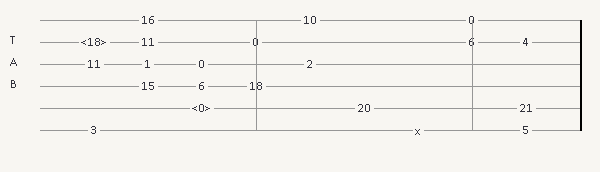0: (198, 58, 209, 70), (252, 36, 263, 48), (468, 14, 479, 26)
1: (144, 58, 155, 70)
10: (303, 14, 321, 26)
11: (87, 58, 105, 70), (141, 36, 159, 48)
15: (141, 80, 159, 92)
16: (141, 14, 159, 26)
18: (249, 80, 267, 92)
2: (306, 58, 317, 70)
20: (357, 102, 375, 114)
21: (519, 102, 537, 114)
3: (90, 124, 101, 136)
4: (522, 36, 533, 48)
5: (522, 124, 533, 136)
6: (198, 80, 209, 92), (468, 36, 479, 48)
harmonic: (81, 36, 111, 48), (192, 102, 215, 114)
x: (415, 125, 425, 135)
